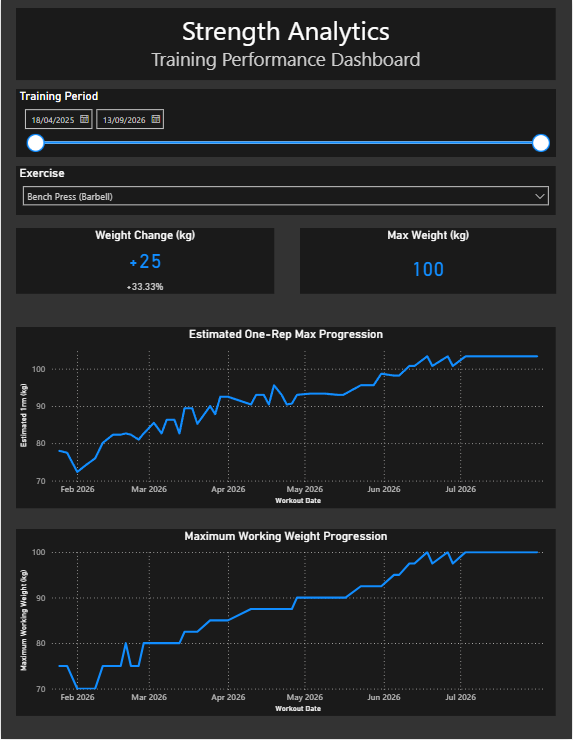

What the dashboard file says about the page in this screenshot:
{"tool":"powerbi","page":{"name":"Strength Progress","canvas":[816,1056],"ordinal":0},"visuals":[{"type":"card","title":"Weight Change (kg)","fields":{"Values":["gym_sets.Strength Difference"]},"box":[21.4,325.7,368.6,70],"z":0,"group":"g1"},{"type":"lineChart","title":"Maximum Working Weight Progression","fields":{"Y":["Max(gym_sets.weight_kg)"],"Category":["gym_sets.workout_date"]},"box":[21.4,755.7,771.4,267.1],"z":0},{"type":"slicer","title":"Exercise","fields":{"Values":["gym_sets.exercise_title"]},"box":[21.4,237.1,771.4,70],"z":1000},{"type":"card","fields":{"Values":["gym_sets.Strength Difference %"]},"box":[334.3,562.9,55.7,24.3],"z":2000},{"type":"lineChart","title":"Estimated One-Rep Max Progression","fields":{"Category":["gym_sets.workout_date"],"Y":["Max(gym_sets.Estimated 1RM)"]},"box":[21.4,467.1,771.4,258.6],"z":3000},{"type":"card","title":"Max Weight (kg)","fields":{"Values":["gym_sets.Max Weight"]},"box":[427.1,325.7,365.7,94.3],"z":4000},{"type":"slicer","title":"Training Period","fields":{"Values":["gym_sets.workout_date"]},"box":[21.4,127.1,771.4,97.1],"z":5000},{"type":"card","fields":{"Values":["gym_sets.Strength Difference %"]},"box":[21.4,395.7,368.6,24.3],"z":5002,"group":"g1"},{"type":"textbox","box":[21.4,11.4,771.4,102.9],"z":6000},{"type":"group","id":"g1","title":"Group 1","box":[21.4,325.7,368.6,94.3],"z":7000}]}

Visuals, with their boxes in screenshot pixels (x1, y1, x2, y2), scaled from the page's 816x1056 canvas onto the 573x740 screenshot:
"Weight Change (kg)" card: <bbox>15, 228, 274, 277</bbox>
"Maximum Working Weight Progression" lineChart: <bbox>15, 530, 557, 717</bbox>
"Exercise" slicer: <bbox>15, 166, 557, 215</bbox>
card - gym_sets.Strength Difference %: <bbox>235, 394, 274, 411</bbox>
"Estimated One-Rep Max Progression" lineChart: <bbox>15, 327, 557, 509</bbox>
"Max Weight (kg)" card: <bbox>300, 228, 557, 294</bbox>
"Training Period" slicer: <bbox>15, 89, 557, 157</bbox>
card - gym_sets.Strength Difference %: <bbox>15, 277, 274, 294</bbox>
textbox: <bbox>15, 8, 557, 80</bbox>
"Group 1" group: <bbox>15, 228, 274, 294</bbox>
